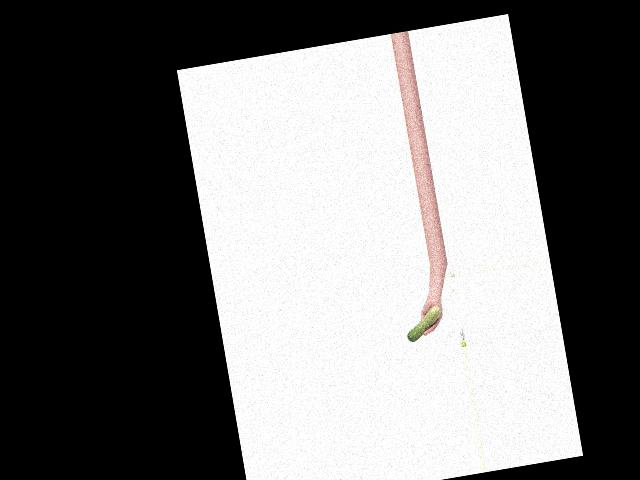cucumber: (403, 305, 445, 341)
